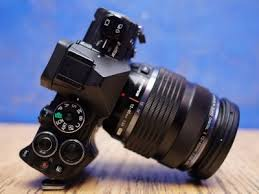camera: (32, 12, 241, 186)
